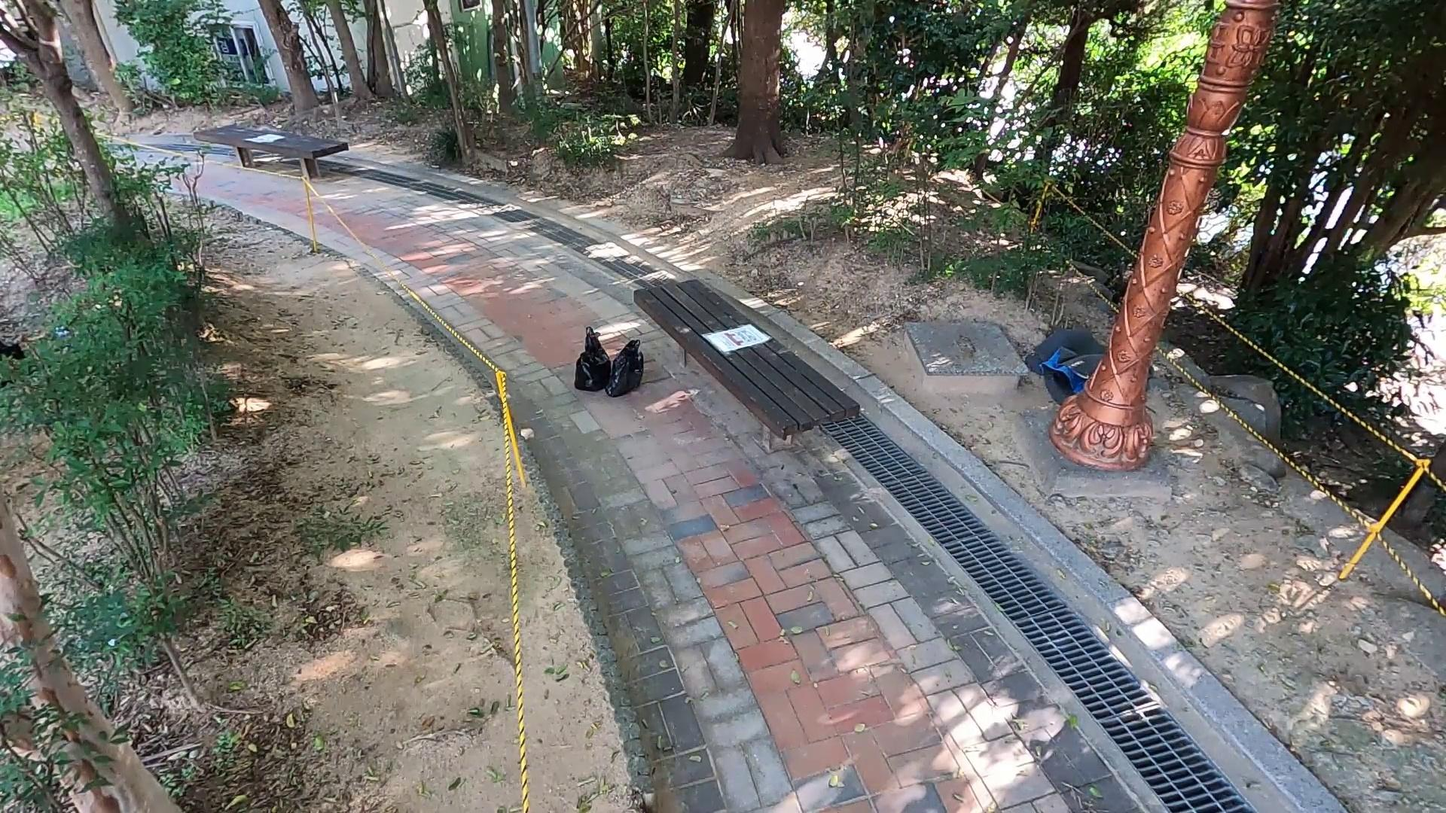trash: (1025, 322, 1130, 408), (571, 325, 617, 392), (609, 334, 648, 401)
